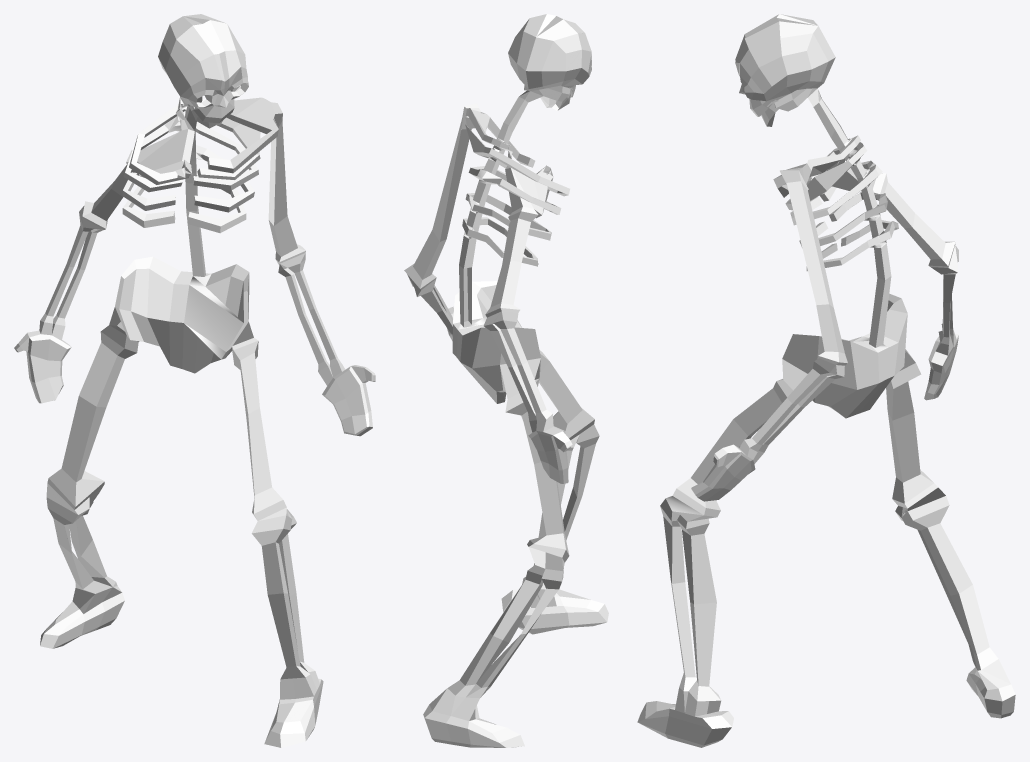
File: SkeletonIdle(110).obj
3 renders of one model, left to right at view 1: azimuth 30°, elevation 25°; view 2: azimuth 150°, elevation 25°; view 3: azimuth 270°, elevation 25°, orthographic. The views are drawn at different scales.
Visible parts, largest first — view 1: Object002; view 2: Object002; view 3: Object002.
Boxes of the visible parts, left/top/right/bottom form: Object002: left=14, top=14, right=375, bottom=747; Object002: left=404, top=14, right=608, bottom=747; Object002: left=637, top=14, right=1015, bottom=747.
Size of the model in its own units: 423 by 1123 by 555.
